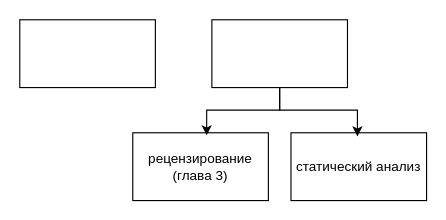
This 446x220 diagram has some shape labels left out. Each missing label, with the centre of its shape:
"динамическое тестирование" goes at point 87,53.
"статическое тестирование" goes at point 279,53.
